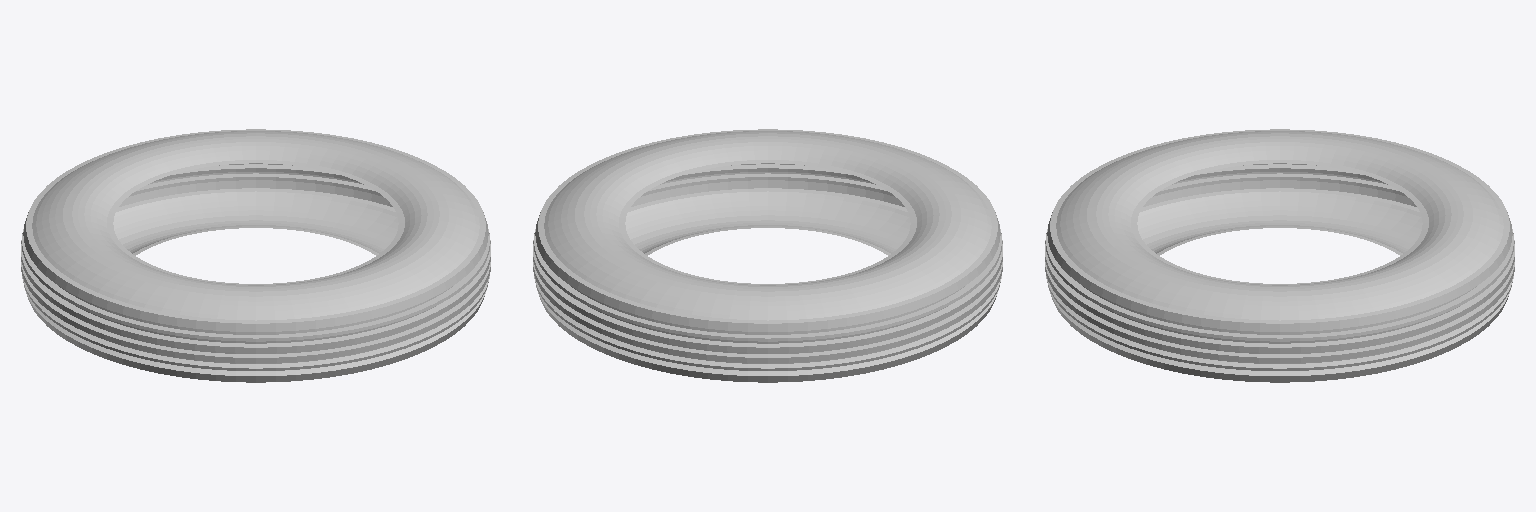
File: U401_Tire.obj
The picture shows the model from 3 angles: view 1: azimuth 30°, elevation 25°; view 2: azimuth 150°, elevation 25°; view 3: azimuth 270°, elevation 25°; orthographic projection.
Size of the model in its own units: 0.8382 by 0.1651 by 0.8382.